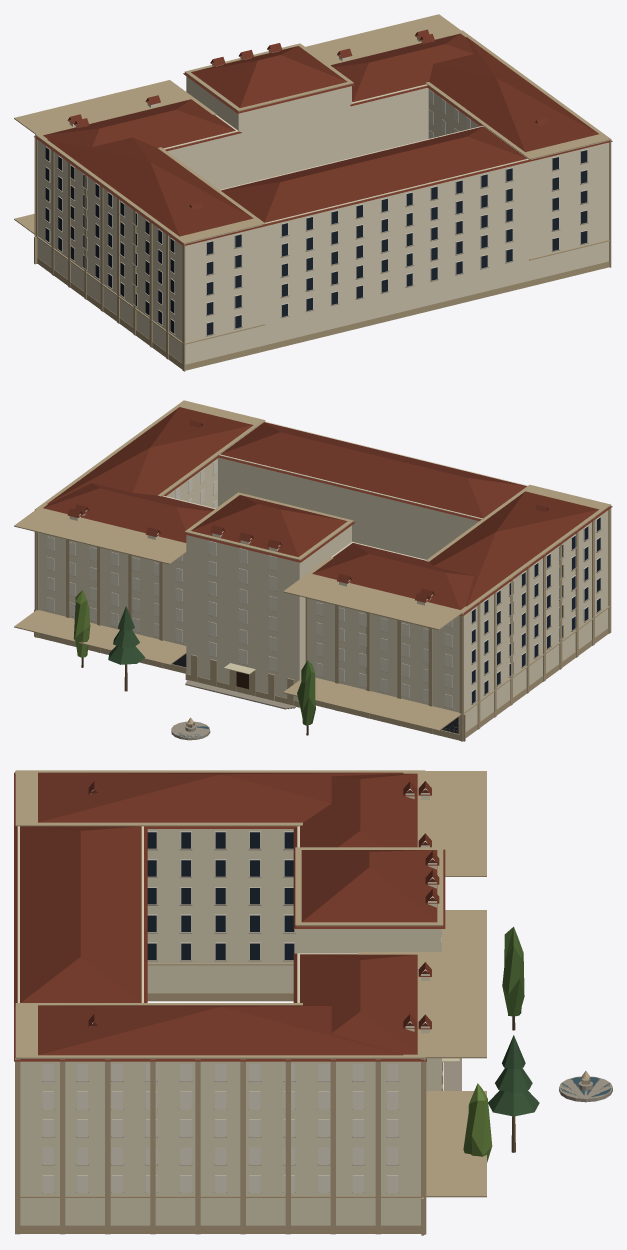
The model's file is Hotel.fbx.
3 renders of one model, top to bottom at view 1: azimuth 30°, elevation 25°; view 2: azimuth 150°, elevation 25°; view 3: azimuth 270°, elevation 25°, orthographic. The views are drawn at different scales.
Visible parts, largest first — view 1: Hotel; view 2: Hotel, Drzewo_Hotel_2, Drzewo_Hotel_1, Drzewo_Hotel_3, Fontanna_Fauny; view 3: Hotel, Drzewo_Hotel_2, Drzewo_Hotel_1, Drzewo_Hotel_3, Fontanna_Fauny.
Part boxes in pixels (x1=…): Hotel: x1=14, y1=14, x2=612, y2=371; Hotel: x1=14, y1=400, x2=612, y2=741; Drzewo_Hotel_2: x1=108, y1=606, x2=145, y2=691; Drzewo_Hotel_1: x1=297, y1=660, x2=315, y2=735; Drzewo_Hotel_3: x1=73, y1=590, x2=90, y2=667; Fontanna_Fauny: x1=171, y1=717, x2=210, y2=740; Hotel: x1=14, y1=770, x2=486, y2=1235; Drzewo_Hotel_2: x1=488, y1=1035, x2=539, y2=1152; Drzewo_Hotel_1: x1=502, y1=926, x2=524, y2=1030; Drzewo_Hotel_3: x1=463, y1=1083, x2=492, y2=1162; Fontanna_Fauny: x1=559, y1=1071, x2=612, y2=1102.
Size of the model in its own units: 76 by 28.3 by 66.4.
